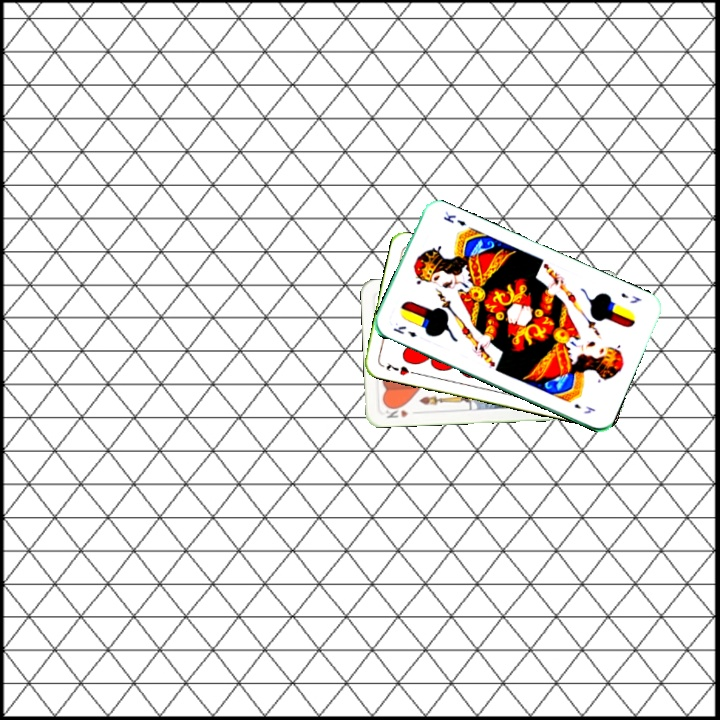EK: (389, 322, 419, 340), (617, 289, 644, 306)
H7: (382, 359, 418, 378)
HK: (382, 402, 411, 420)
